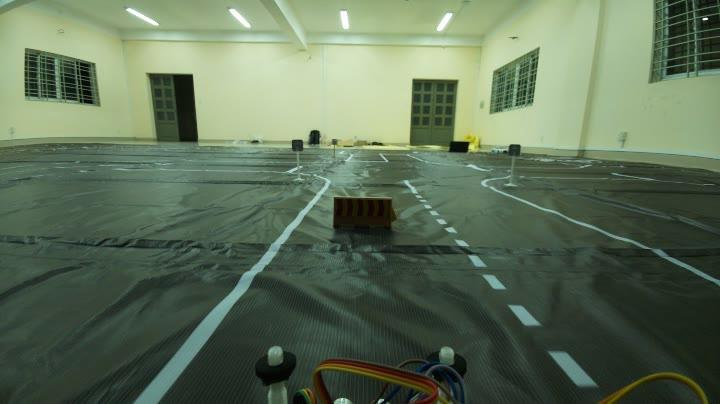roadblock: (326, 186, 403, 242)
